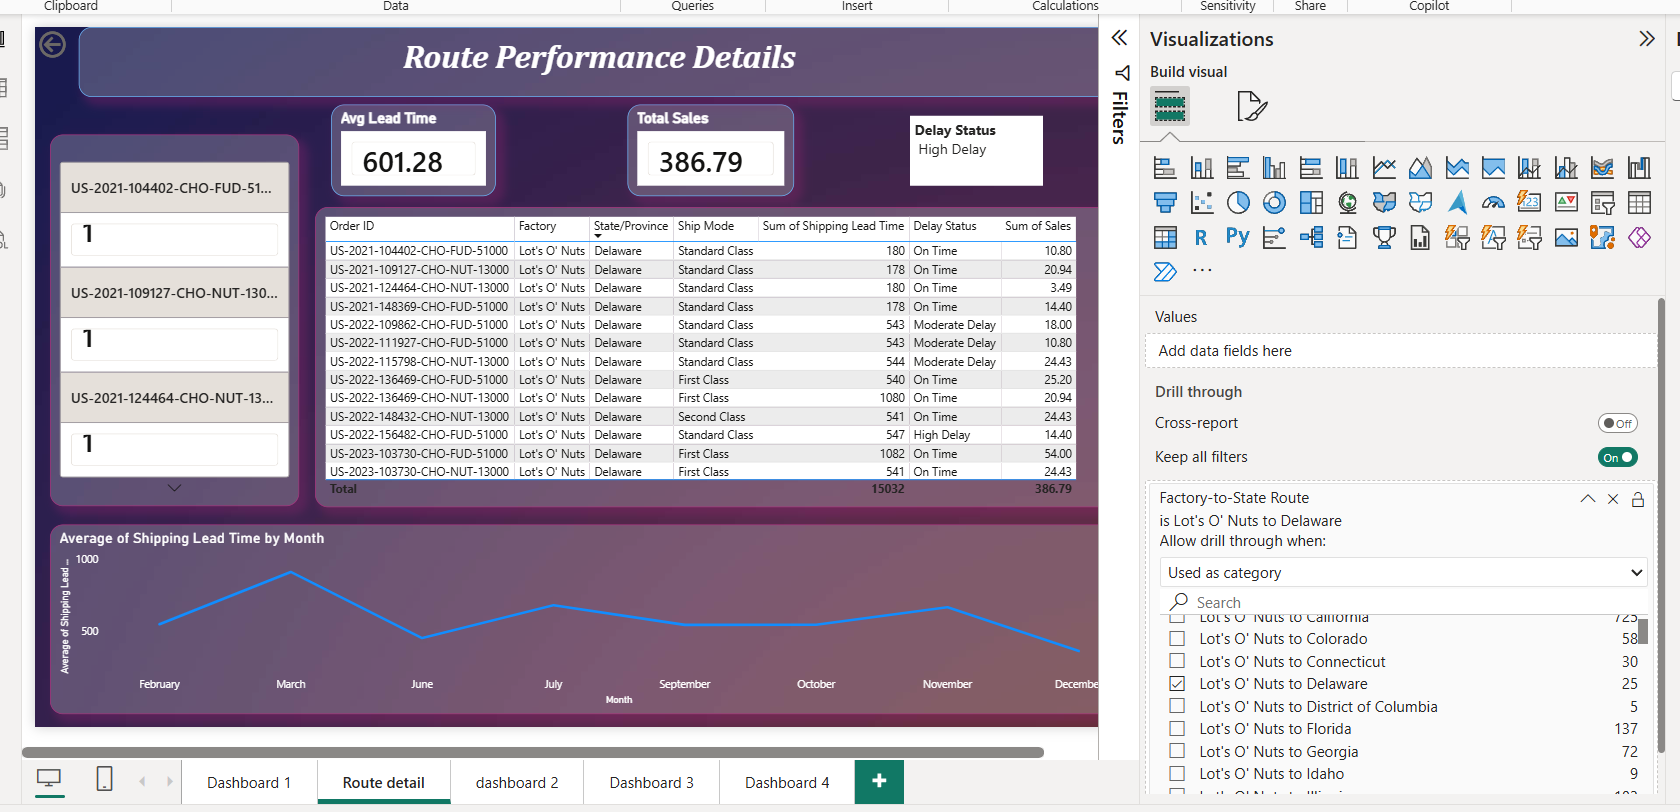

What the dashboard file says about the page in this screenshot:
{"tool":"powerbi","page":{"name":"Route detail","canvas":[1280,800],"ordinal":1},"visuals":[{"type":"actionButton","box":[0,0,100,40],"z":0},{"type":"lineChart","fields":{"Y":["Avg(nassau_candy_clean_dataset.Shipping Lead Time)"],"Category":["nassau_candy_clean_dataset.Order Date.Variation.Date Hierarchy.Month"]},"box":[16.7,568.3,1246.7,216.7],"z":1000},{"type":"cardVisual","title":"Total Sales","fields":{"Data":["nassau_candy_clean_dataset.Total Sales"]},"box":[676.7,88.3,190,105],"z":2000},{"type":"cardVisual","title":"Avg Lead Time","fields":{"Data":["nassau_candy_clean_dataset.Avg Lead Time"]},"box":[338.3,88.3,188.3,105],"z":3000},{"type":"cardVisual","fields":{"Data":["nassau_candy_clean_dataset.Total Shipments"],"Rows":["nassau_candy_clean_dataset.Order ID"]},"box":[16.7,123.3,285,425],"z":4000},{"type":"tableEx","fields":{"Values":["nassau_candy_clean_dataset.Order ID","nassau_candy_clean_dataset.Factory","nassau_candy_clean_dataset.State/Province","nassau_candy_clean_dataset.Ship Mode","Sum(nassau_candy_clean_dataset.Shipping Lead Time)","nassau_candy_clean_dataset.Delay Status","Sum(nassau_candy_clean_dataset.Sales)"]},"box":[320,205,920,343.3],"z":5000},{"type":"actionButton","box":[0,0,100,40],"z":6000},{"type":"textbox","box":[50,0,1190,80],"z":7000},{"type":"textbox","box":[1000,101.7,151.7,80],"z":9000}]}

Visuals, with their boxes on the page's 1280x800 design canvas (x1, y1, x2, y2). These are canvas units, not pixel positions in the 1680x812 screenshot, which may show the page scaled, cropped or inside an application window:
actionButton: (left=0, top=0, right=100, bottom=40)
lineChart - Avg(nassau_candy_clean_dataset.Shipping Lead Time) x nassau_candy_clean_dataset.Order Date.Variation.Date Hierarchy.Month: (left=17, top=568, right=1263, bottom=785)
"Total Sales" cardVisual: (left=677, top=88, right=867, bottom=193)
"Avg Lead Time" cardVisual: (left=338, top=88, right=527, bottom=193)
cardVisual - nassau_candy_clean_dataset.Total Shipments x nassau_candy_clean_dataset.Order ID: (left=17, top=123, right=302, bottom=548)
tableEx - nassau_candy_clean_dataset.Order ID x nassau_candy_clean_dataset.Factory: (left=320, top=205, right=1240, bottom=548)
actionButton: (left=0, top=0, right=100, bottom=40)
textbox: (left=50, top=0, right=1240, bottom=80)
textbox: (left=1000, top=102, right=1152, bottom=182)
